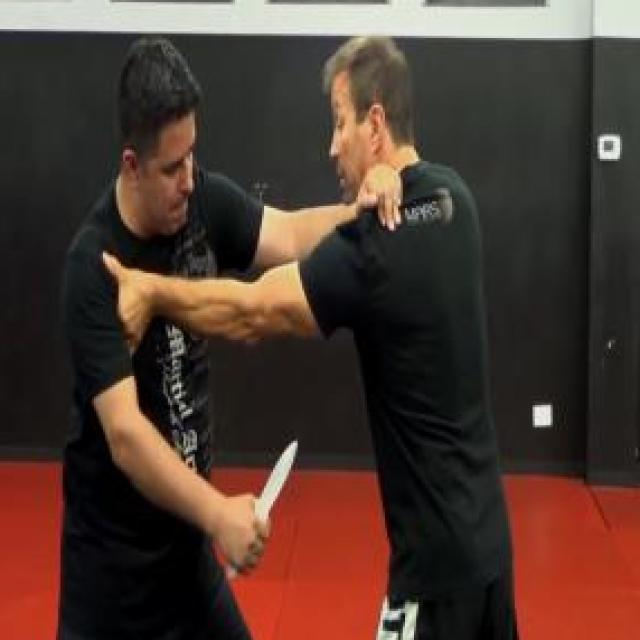knife: (222, 430, 301, 583)
